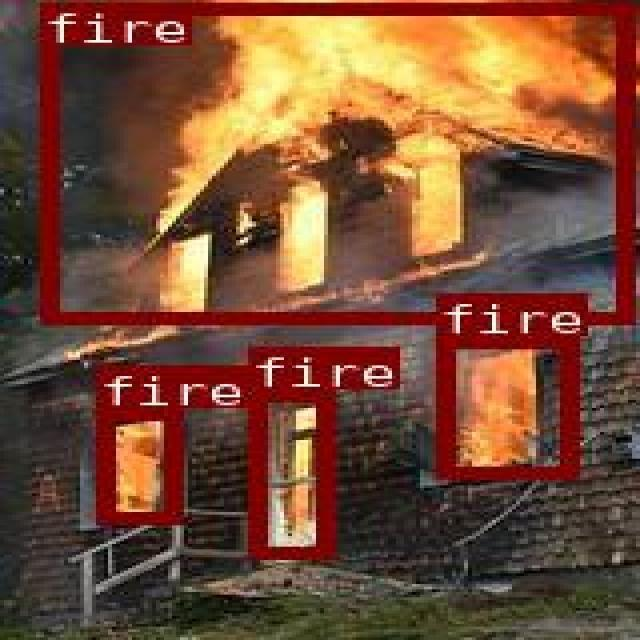fire: (40, 2, 628, 322), (434, 335, 575, 477), (248, 389, 331, 556), (95, 406, 180, 521)
